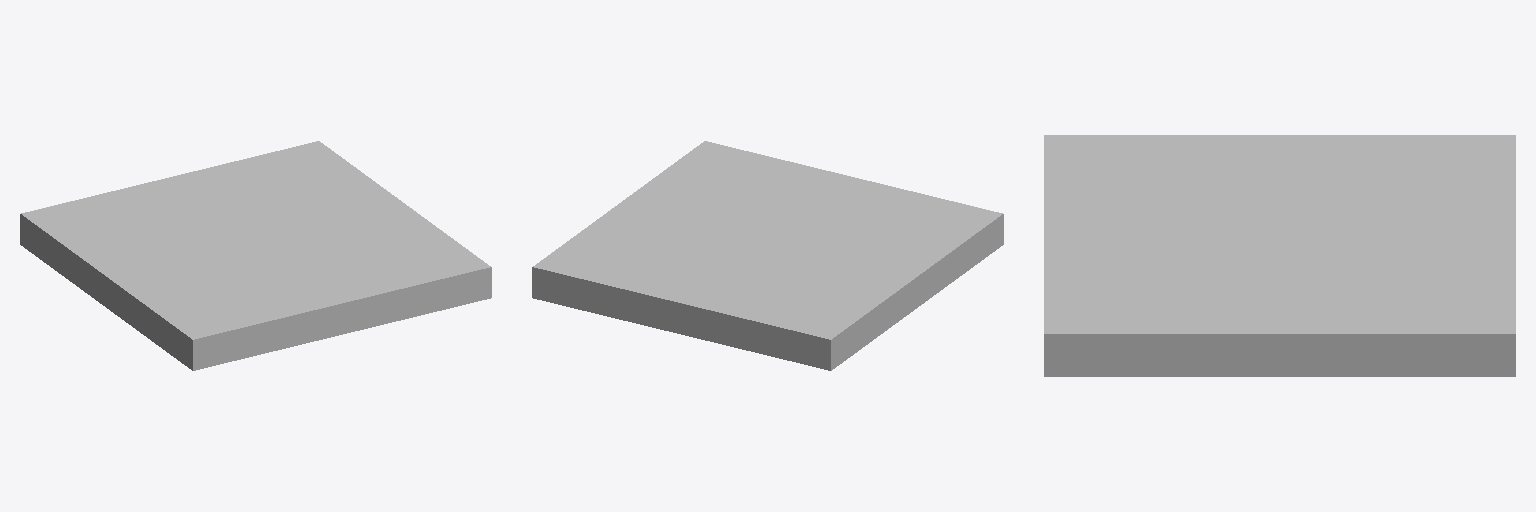
The robot description file, URDF, robot "plane":
<?xml version="1.0" ?>
<robot name="plane">
  <link name="planeLink">
  <contact>
      <lateral_friction value="1"/>
  </contact>
    <inertial>
      <origin rpy="0 0 0" xyz="0 0 0"/>
       <mass value=".0"/>
       <inertia ixx="0" ixy="0" ixz="0" iyy="0" iyz="0" izz="0"/>
    </inertial>
    <visual>
      <origin rpy="0 0 0" xyz="0 0 -5"/>
      <geometry>
        <box size="100 100 10"/>
      </geometry>
       <material name="gray">
        <color rgba="0.8 0.8 0.8 1"/>
      </material>
    </visual>
    <collision>
      <origin rpy="0 0 0" xyz="0 0 -5"/>
      <geometry>
        <box size="100 100 10"/>
      </geometry>
    </collision>
  </link>
</robot>

--- Render facts (derived) ---
3 views of the same robot in one strip: view 1: azimuth 30°, elevation 25°; view 2: azimuth 150°, elevation 25°; view 3: azimuth 270°, elevation 25° (orthographic).
Model plane with 1 links and 0 joints (none), rooted at planeLink, posed every joint at zero.
Links seen in each view (by area): view 1: planeLink; view 2: planeLink; view 3: planeLink.
Link boxes in pixels (left/top/right/bottom): planeLink: left=20, top=141, right=491, bottom=370; planeLink: left=532, top=141, right=1003, bottom=370; planeLink: left=1044, top=135, right=1515, bottom=376.
Bounding box of the posed robot: 100 × 100 × 10 m (x, y, z).
Geometry: primitives only (box / cylinder / sphere), no mesh files.
